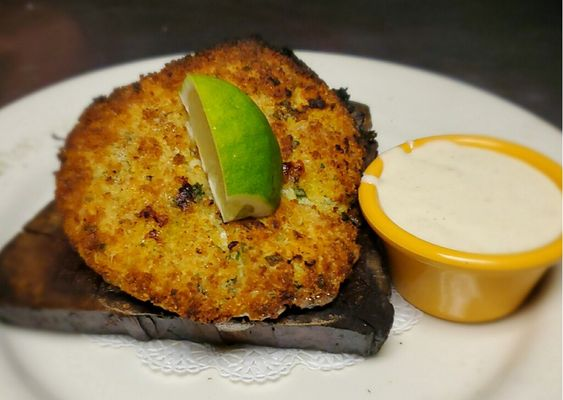sushi: (358, 133, 561, 323)
